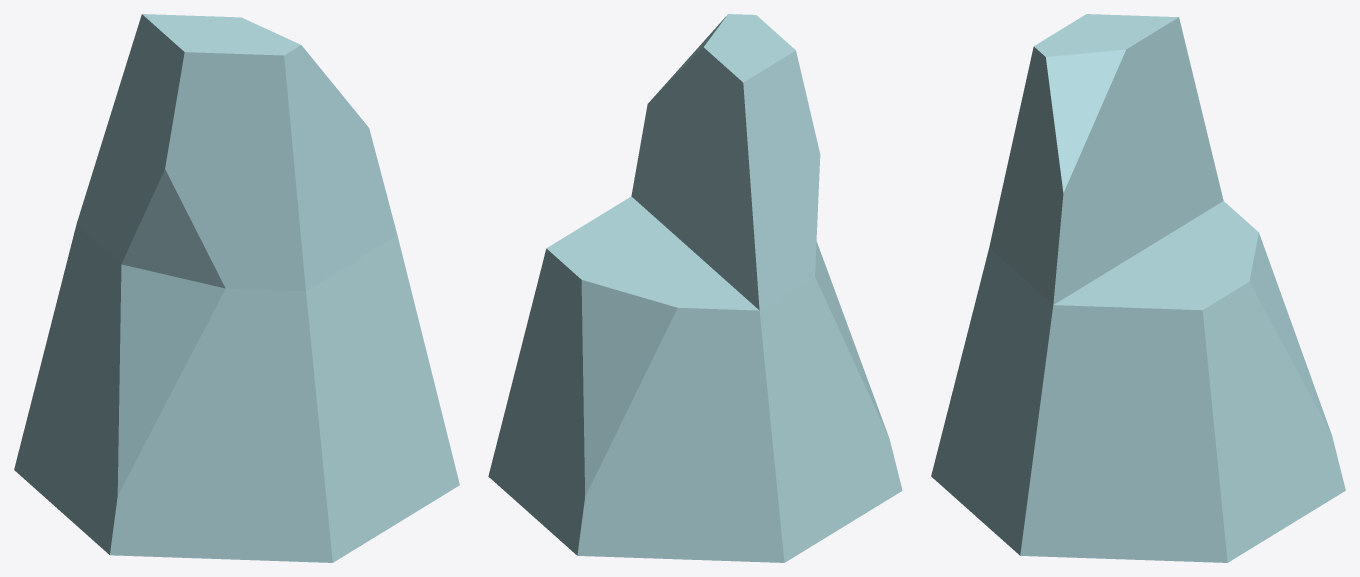
The model's file is stone_tallJ.glb.
3 renders of one model, left to right at view 1: azimuth 30°, elevation 25°; view 2: azimuth 150°, elevation 25°; view 3: azimuth 270°, elevation 25°, orthographic. The views are drawn at different scales.
Visible parts, largest first — view 1: stone_tallJ; view 2: stone_tallJ; view 3: stone_tallJ.
Part boxes in pixels (x1,y1,x2,y2): stone_tallJ: (14, 14, 459, 562); stone_tallJ: (488, 14, 902, 562); stone_tallJ: (931, 14, 1345, 562).
Size of the model in its own units: 0.4879 by 0.62 by 0.5382.
